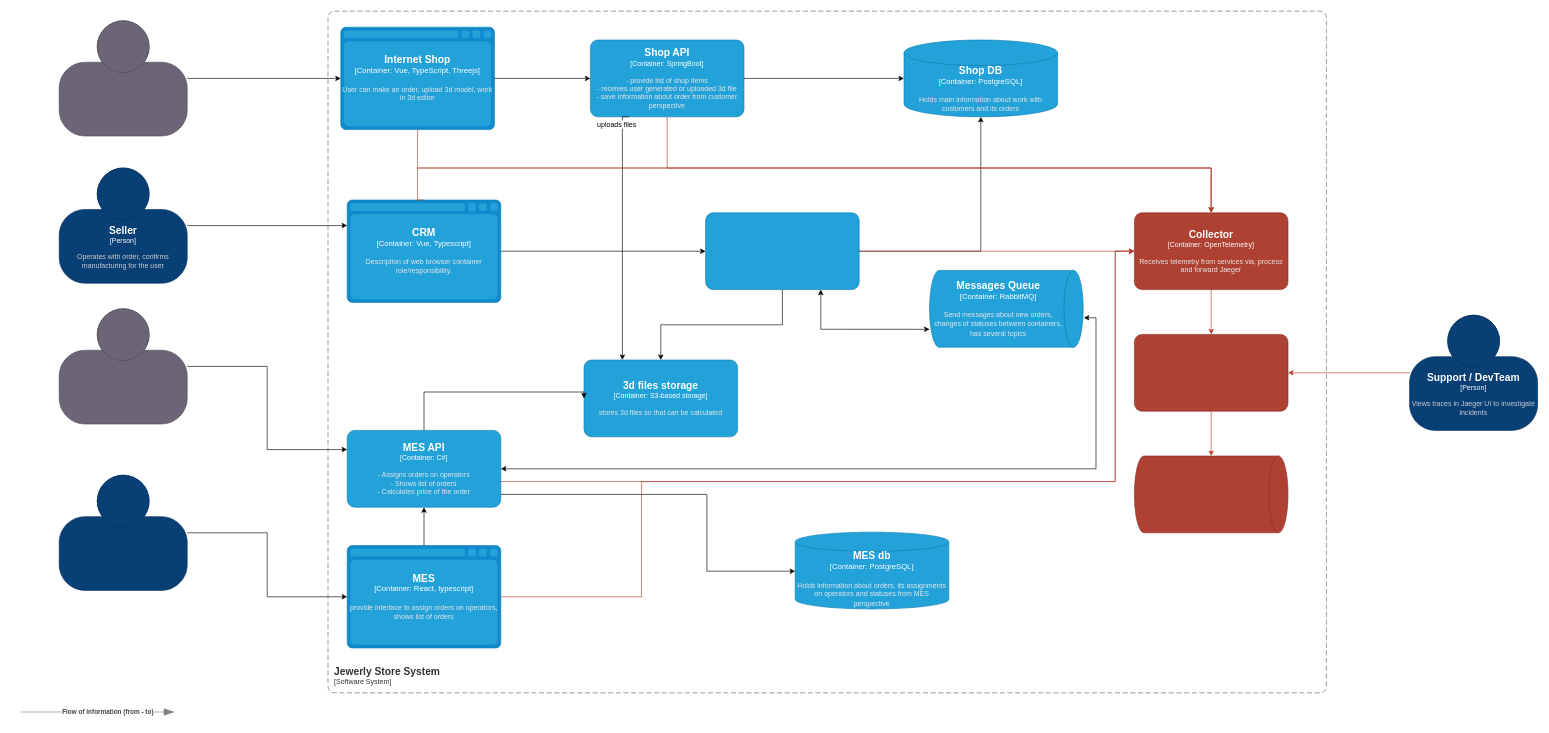
This 1549x733 diagram has some shape labels left out. Each missing label, with the centre of its shape:
"API user [Person] Description of external person." belongs at (123,366).
"CRM API [Container: SpringBoot] Description of container role/responsibility." belongs at (782,251).
"Customer [Person] Description of external person." belongs at (123,78).
"Operator [Person] Takes order in work, manufactures jewerly" belongs at (123,532).
"Trace DB [Container: OpenSearch] Storage backend for Jaeger traces" belongs at (1211,494).
"Trace UI [Container: Jaeger] Stores and visualizes distributed traces" belongs at (1211,372).
